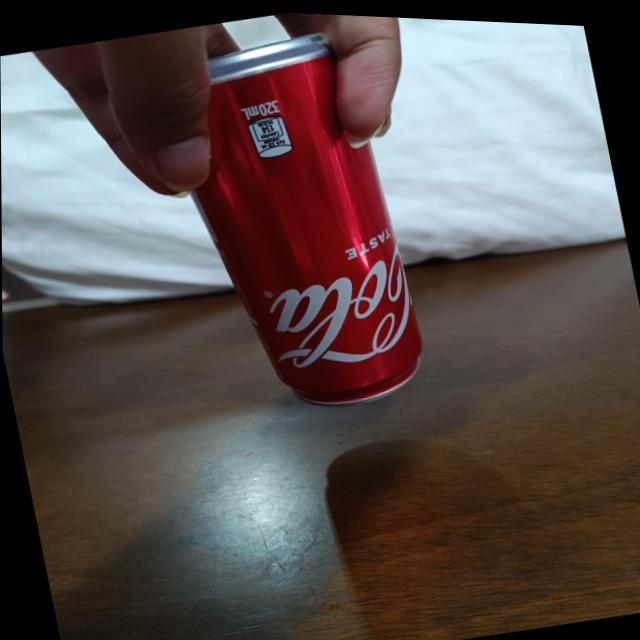coke: (154, 18, 436, 428)
